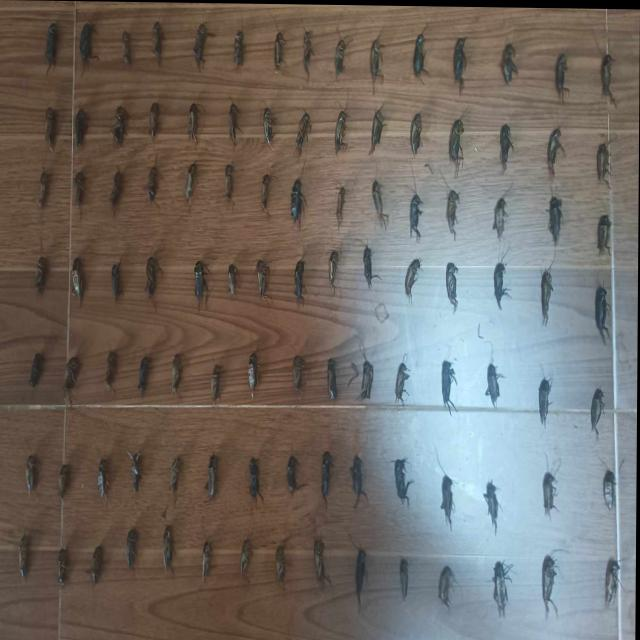egg: (493, 559, 513, 615), (543, 553, 558, 617), (79, 21, 98, 70), (395, 457, 414, 506), (372, 177, 390, 227), (486, 356, 504, 405), (596, 283, 611, 341), (547, 125, 564, 176), (484, 478, 500, 532), (352, 454, 368, 506), (450, 117, 464, 175), (439, 564, 458, 606), (548, 194, 564, 243), (442, 473, 456, 529), (601, 51, 616, 103), (291, 177, 306, 228), (364, 244, 381, 288), (405, 257, 422, 301), (356, 546, 368, 607), (591, 386, 605, 438), (443, 358, 457, 410), (194, 22, 209, 70), (606, 556, 621, 604), (501, 126, 516, 173), (111, 105, 128, 146), (370, 107, 385, 153), (542, 266, 554, 323), (539, 372, 552, 424), (454, 36, 466, 92), (446, 261, 459, 312), (502, 41, 518, 82), (447, 188, 460, 238), (296, 109, 311, 152), (410, 192, 423, 241), (46, 22, 59, 71), (250, 457, 264, 501), (493, 196, 508, 237), (396, 361, 411, 402), (556, 51, 569, 98), (494, 260, 507, 307), (413, 31, 425, 81), (544, 469, 557, 515), (370, 37, 381, 91), (170, 455, 182, 503), (146, 255, 159, 299), (322, 450, 333, 502), (110, 171, 123, 214), (604, 467, 617, 509), (72, 256, 84, 301), (46, 107, 58, 151), (30, 352, 45, 387), (597, 141, 610, 181), (361, 358, 374, 398), (249, 351, 260, 398), (598, 212, 611, 251), (36, 254, 49, 293), (153, 19, 164, 65), (315, 535, 326, 581), (106, 350, 119, 388), (411, 112, 423, 153), (335, 110, 347, 151), (129, 450, 141, 491), (67, 356, 81, 391), (304, 29, 314, 77), (76, 108, 88, 148), (287, 453, 299, 493), (92, 544, 104, 584), (274, 29, 285, 72), (75, 171, 86, 214), (188, 102, 200, 141), (185, 163, 196, 205), (295, 256, 305, 302), (164, 525, 174, 571), (256, 259, 268, 297), (336, 185, 347, 226), (328, 349, 338, 394), (294, 354, 306, 391), (330, 249, 340, 293), (208, 454, 218, 498), (99, 457, 109, 501), (241, 538, 252, 577), (128, 528, 139, 567), (335, 37, 346, 75), (234, 29, 245, 67), (147, 165, 158, 203), (139, 356, 150, 394), (27, 455, 38, 493), (195, 260, 204, 306), (261, 172, 271, 213), (112, 261, 122, 302), (149, 102, 160, 139), (59, 548, 70, 585), (20, 534, 29, 579), (212, 363, 222, 403), (229, 100, 238, 143), (401, 556, 410, 599), (277, 545, 286, 588), (39, 171, 48, 211), (264, 105, 273, 144), (174, 354, 183, 393), (60, 464, 70, 499), (122, 29, 131, 67), (226, 162, 234, 202), (203, 540, 211, 579), (229, 263, 238, 294), (415, 57, 421, 62)
